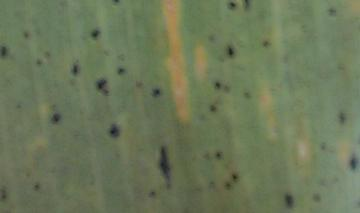tarspot: (159, 148, 170, 183), (110, 125, 119, 137), (97, 79, 106, 90), (71, 62, 78, 75), (350, 154, 355, 170), (52, 113, 60, 122), (1, 47, 8, 57), (1, 189, 7, 200), (228, 2, 236, 10), (243, 91, 251, 99), (312, 194, 320, 202), (151, 89, 160, 96), (242, 1, 249, 10), (287, 196, 292, 208), (339, 113, 345, 123), (92, 30, 99, 38), (231, 174, 238, 182), (261, 39, 268, 47), (208, 34, 215, 42), (203, 152, 210, 160), (227, 47, 233, 56), (209, 105, 216, 112), (328, 8, 335, 15), (33, 183, 40, 190), (223, 85, 229, 93), (35, 59, 42, 65), (225, 183, 231, 190), (136, 81, 143, 87), (45, 51, 51, 58), (23, 32, 29, 38), (214, 82, 221, 87), (111, 1, 119, 5), (118, 68, 124, 73), (321, 144, 326, 150), (217, 153, 222, 158), (150, 192, 155, 197), (17, 104, 21, 110)
